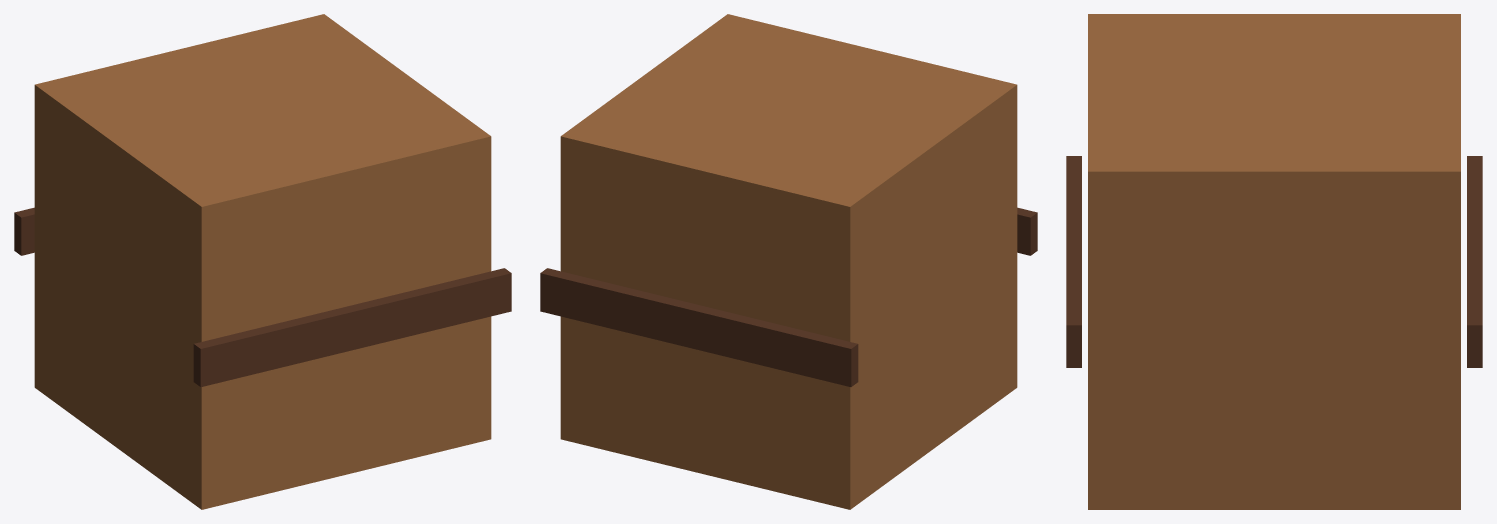
The model's file is crate.glb.
The picture shows the model from 3 angles, left to right: view 1: azimuth 30°, elevation 25°; view 2: azimuth 150°, elevation 25°; view 3: azimuth 270°, elevation 25°; orthographic projection. The views are drawn at different scales.
Size of the model in its own units: 1.02 by 0.95 by 1.06.
